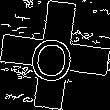O_N: (30, 27, 80, 83)
